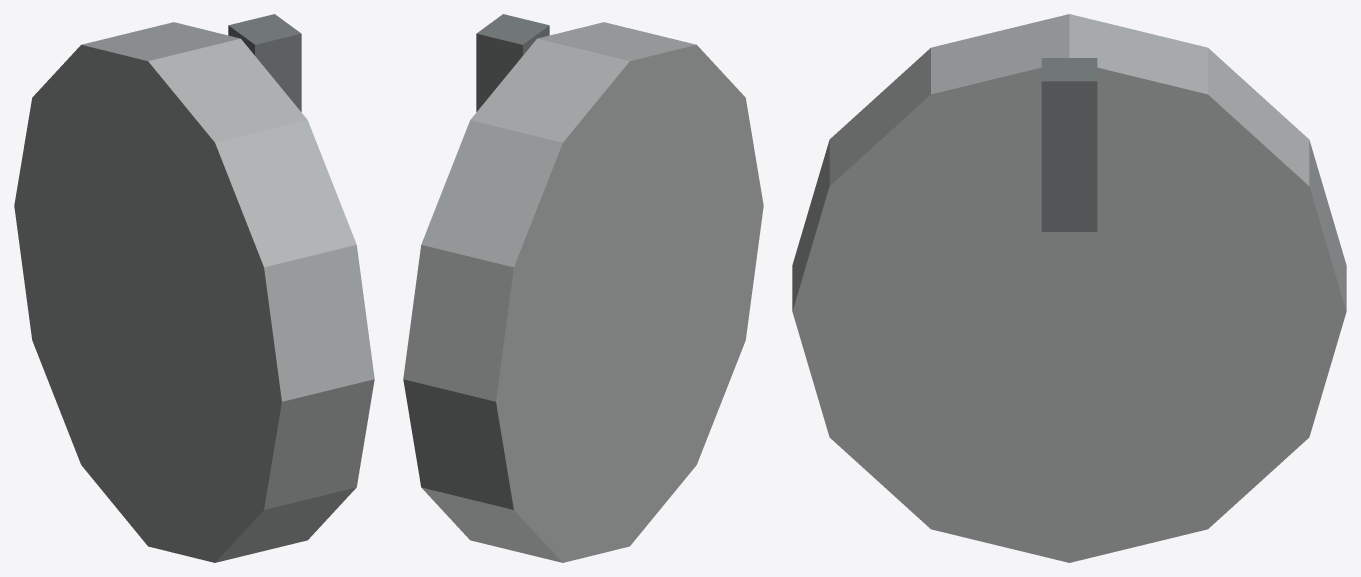
Rendered from stoveTurner.fbx.
3 renders of one model, left to right at view 1: azimuth 30°, elevation 25°; view 2: azimuth 150°, elevation 25°; view 3: azimuth 270°, elevation 25°, orthographic. The views are drawn at different scales.
Parts seen in each view (by area): view 1: stoveTurner1; view 2: stoveTurner1; view 3: stoveTurner1.
Part boxes in pixels (x1=…): stoveTurner1: x1=14, y1=14, x2=374, y2=562; stoveTurner1: x1=403, y1=14, x2=763, y2=562; stoveTurner1: x1=792, y1=14, x2=1346, y2=562.
Bounding box in the file's own units: 0.0302 × 0.1007 × 0.1.
